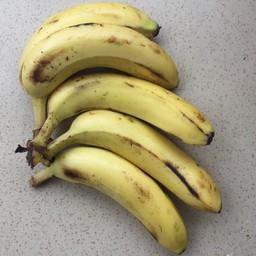Banana Ripe: (53, 107, 235, 221), (24, 146, 189, 251), (21, 74, 218, 147), (13, 15, 194, 92)
